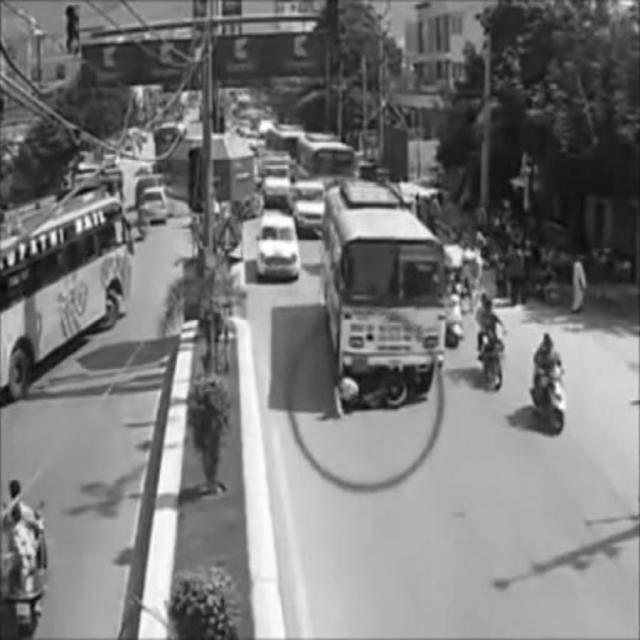accident: (324, 186, 445, 419)
vehicle: (3, 193, 131, 393), (530, 332, 570, 433), (476, 291, 506, 389), (258, 210, 299, 274)
